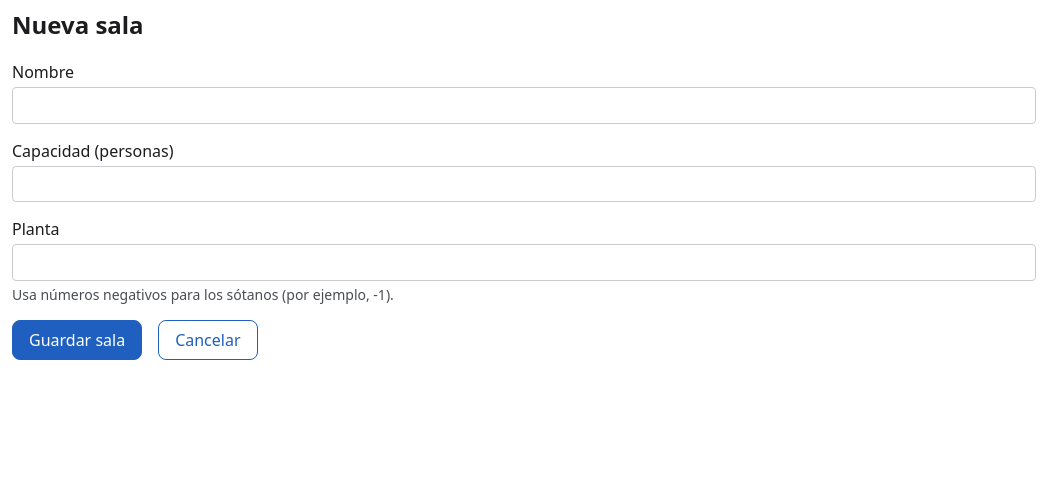
Test case: SalaFormComponent › alta › 400 con un error de un campo desconocido: se muestra en el bloque general
Type "S" into the field labelled "Nombre". click: [524, 105]
box: [12,87,1036,124]
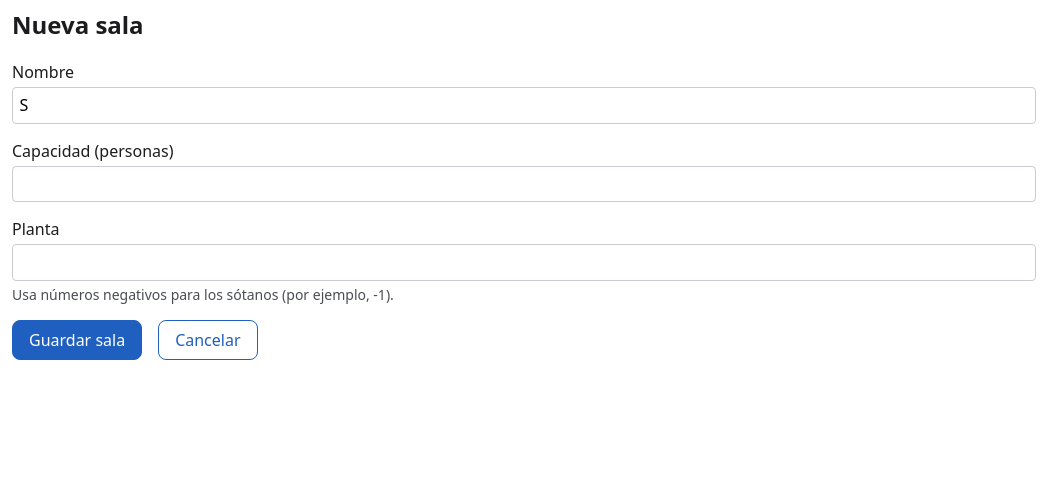
Type "2" into the number field labelled "Capacidad (personas)". click: [524, 184]
box: [12,166,1036,202]
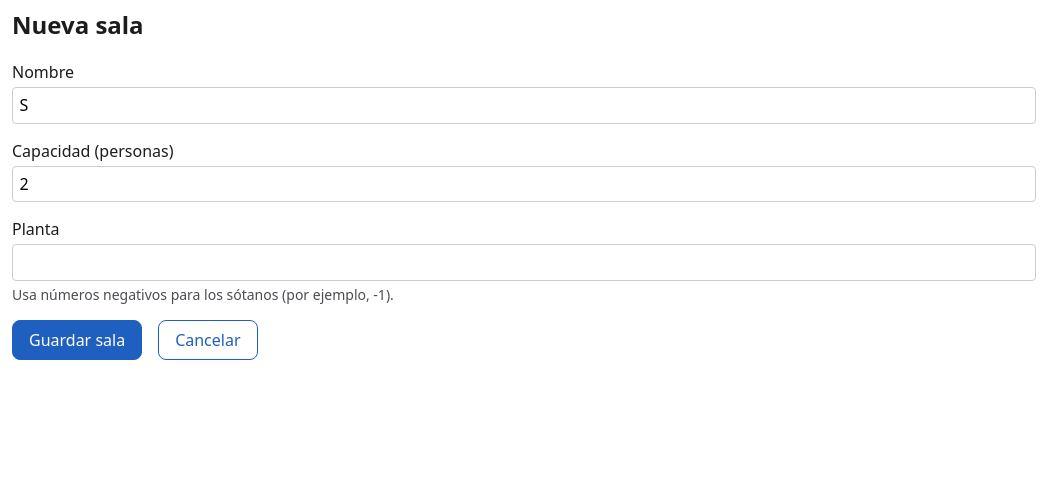
Type "1" into the number field labelled "Planta". click: [524, 263]
box: [12,244,1036,281]
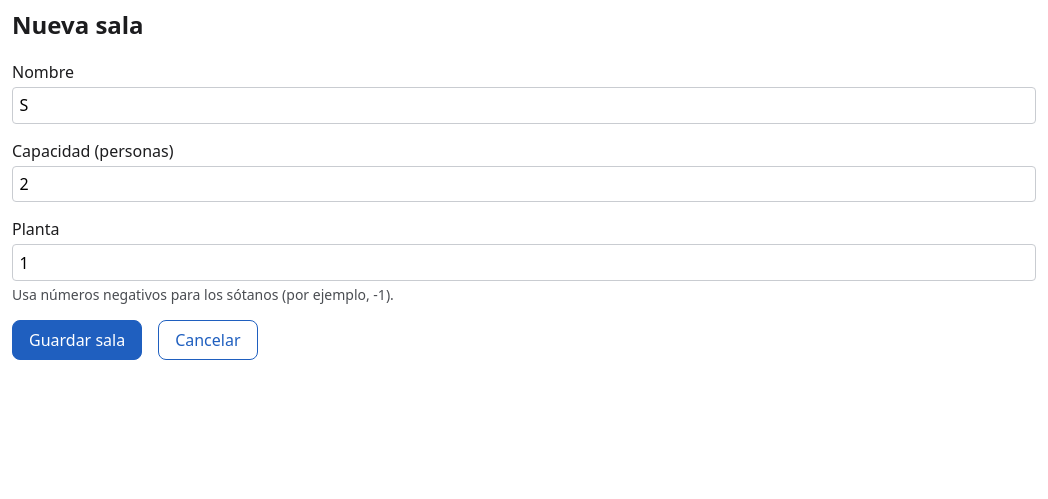
Click the submit button. click: [77, 340]
box: [12,320,142,360]
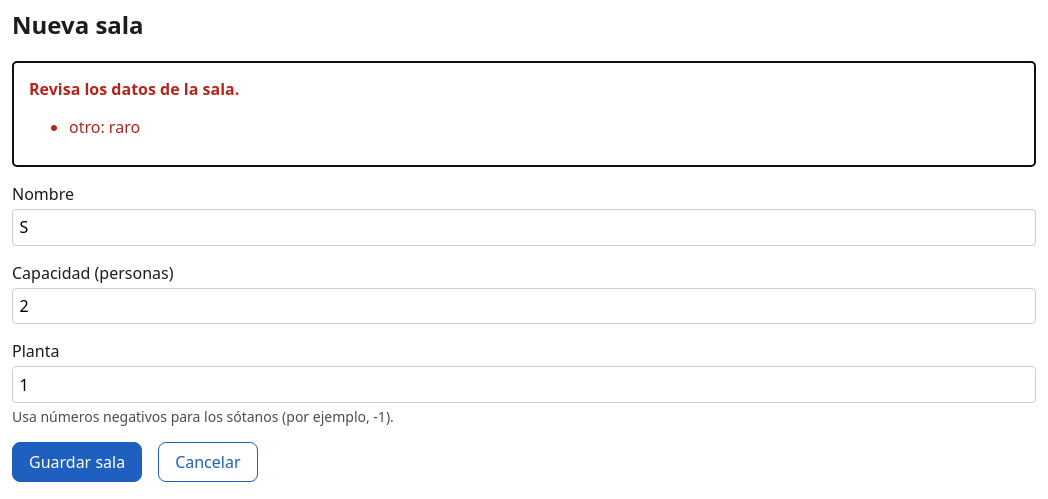
Result: the message with class "error-general" shows "otro: raro" at [69,116,140,138]
